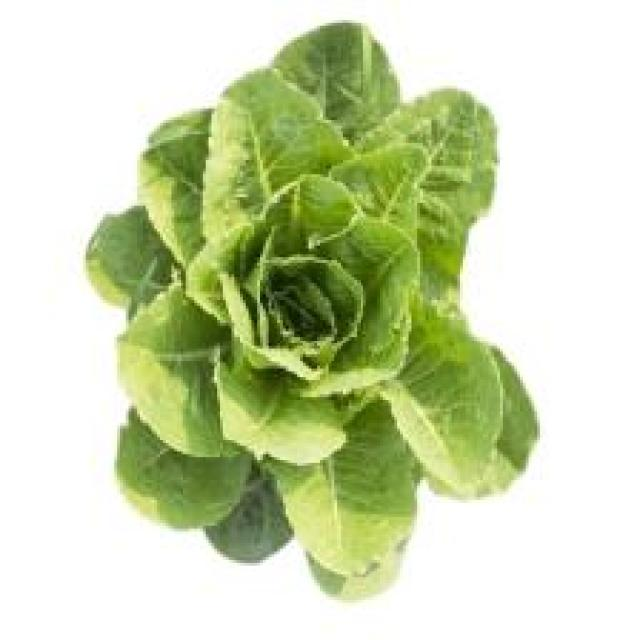Lettuce: (89, 18, 532, 596)
